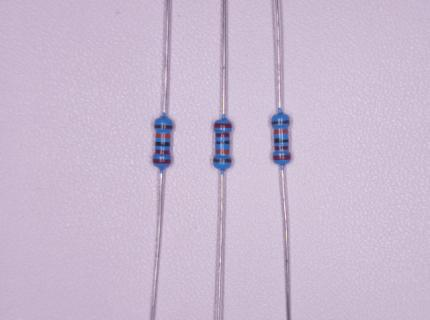Black band: (275, 138, 289, 143), (155, 142, 170, 146), (216, 141, 230, 144)
Brown band: (214, 158, 231, 163), (272, 121, 290, 125), (155, 125, 172, 129)
Orange band: (273, 129, 288, 135), (215, 149, 229, 155), (156, 134, 170, 139)
Red band: (273, 155, 291, 160), (213, 123, 232, 127), (155, 150, 170, 155), (274, 146, 288, 151), (154, 159, 171, 163), (216, 133, 229, 136)
